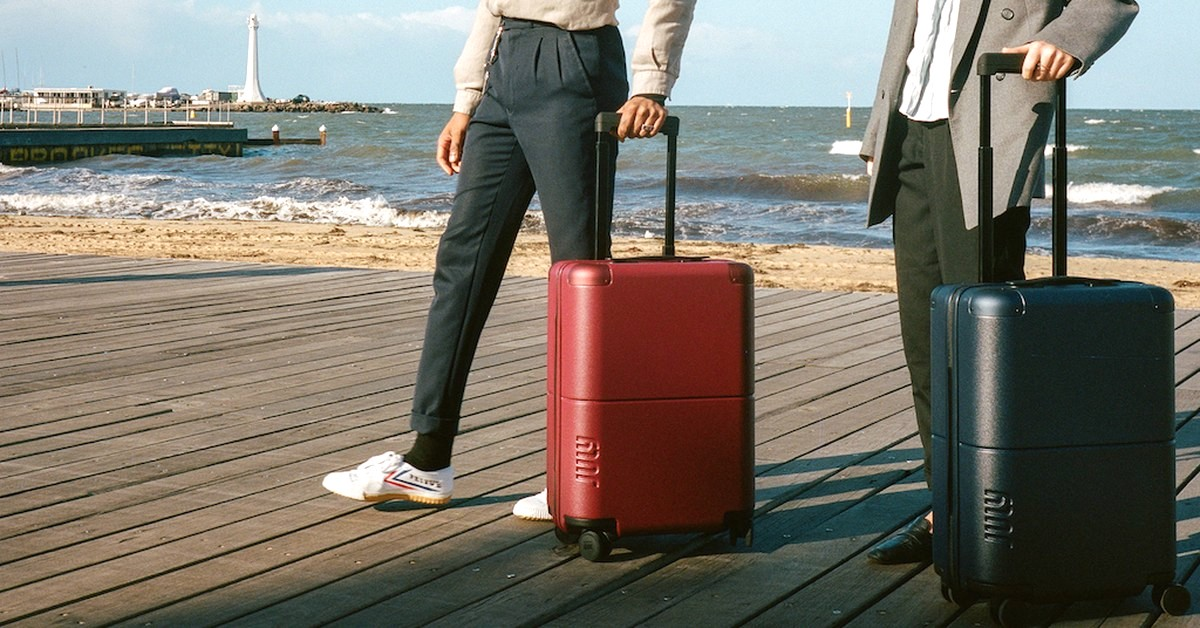luggage: (941, 67, 1174, 619), (546, 121, 762, 560)
